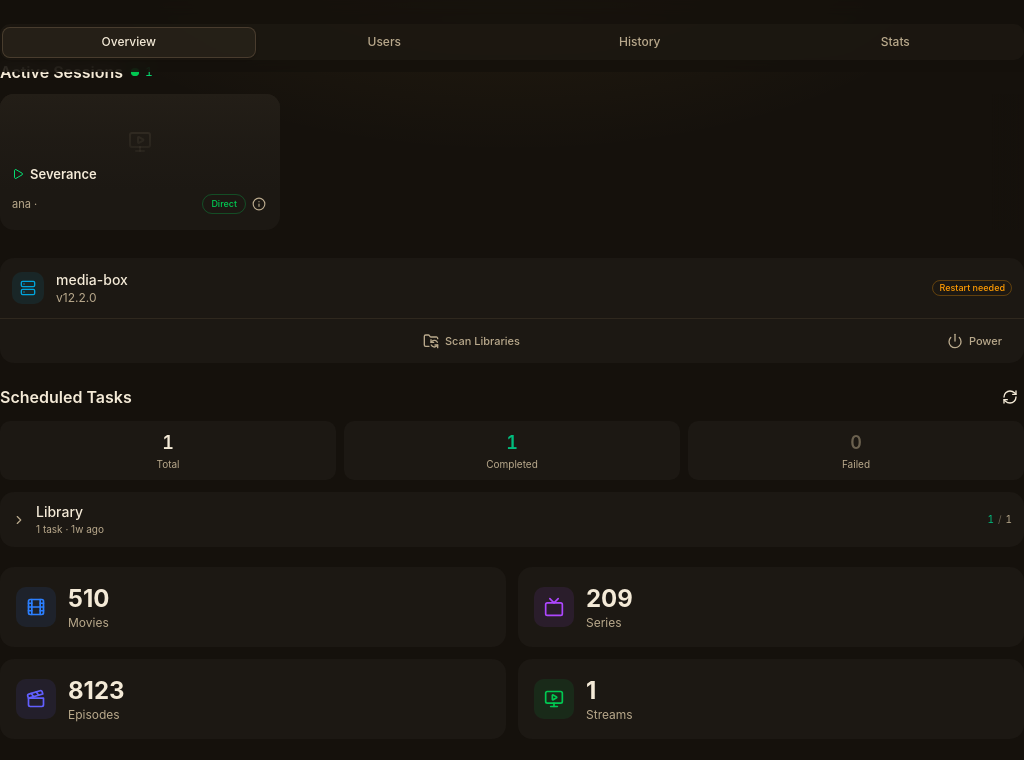
Jellyfin page (characterization) › lists users with their plays, and a user's recent plays
The width and height of the screenshot is (1024, 760).
Click the tab "Users".
click(384, 42)  # box [258,26,511,58]
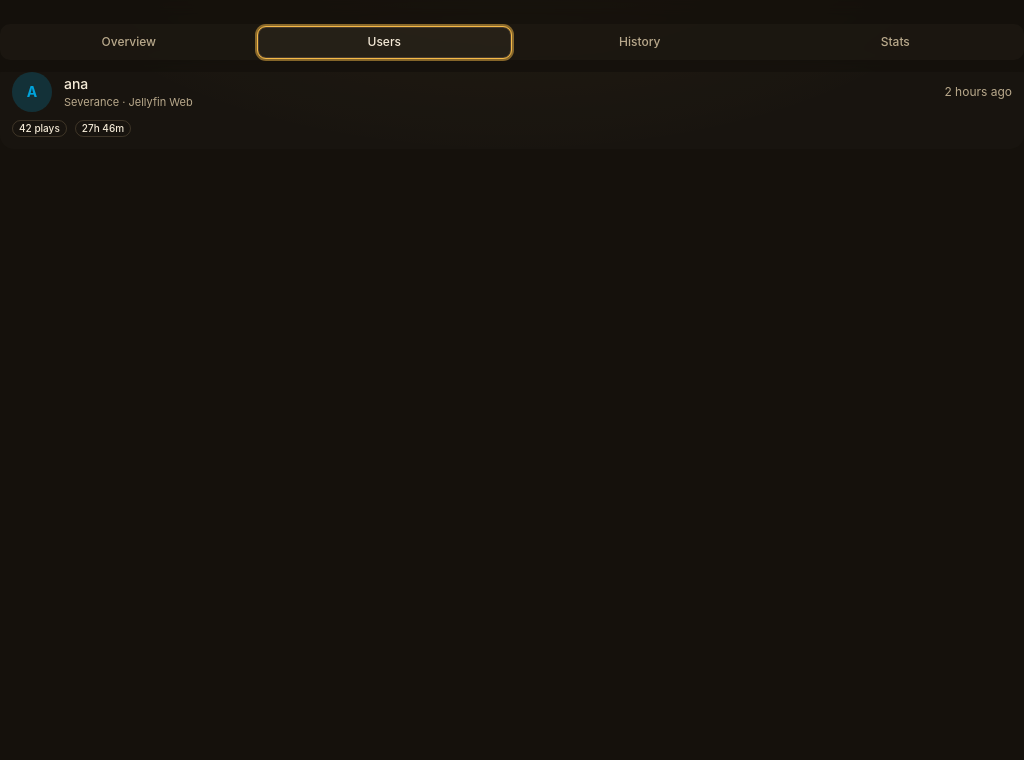
Expected: the text "42 plays" is shown, [12,120,67,137]
Expected: the text "27h 46m" is shown, [75,120,131,137]
Expected: the text "2 hours ago" is shown, [944,84,1012,100]
Click the button "A ana Severance · Jellyfin Web 2 hours ago 42 plays 27h 46m".
click(32, 92)  # box [0,60,1023,149]
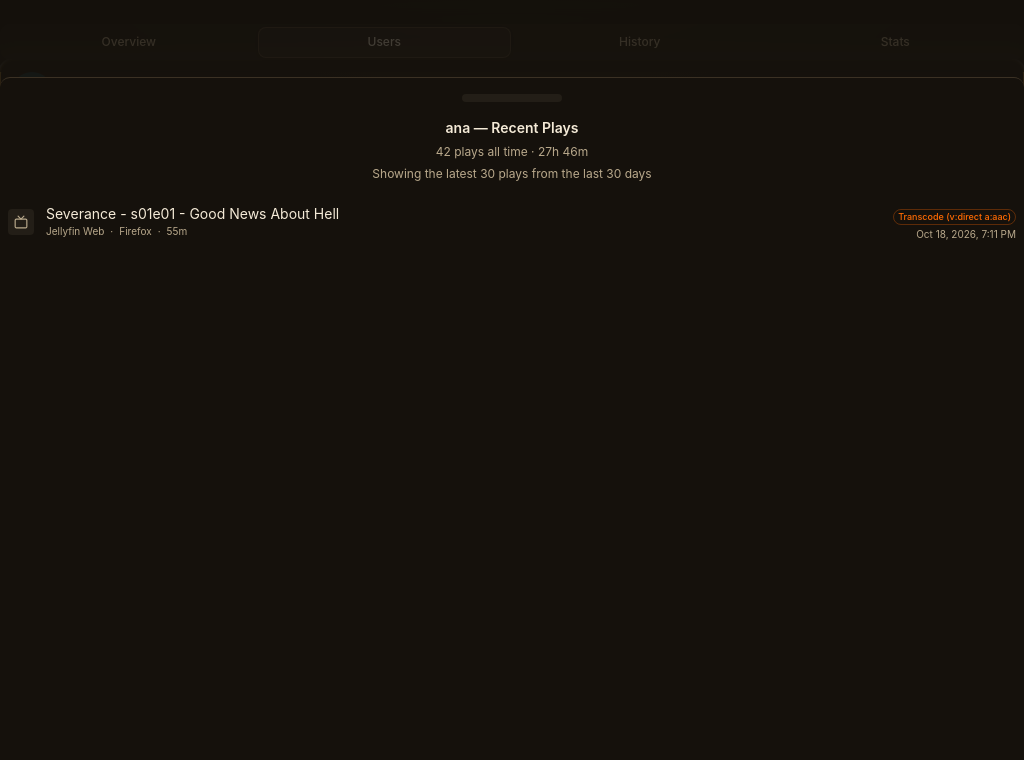
Expected: the heading "ana — Recent Plays" is shown, [446,119,578,136]
Expected: the text "Severance - s01e01 - Good News About Hell" is shown, [46,205,339,222]
